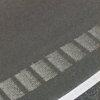Crosswalk: (7, 40, 99, 92)
